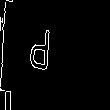P_S: (43, 28, 67, 82)
